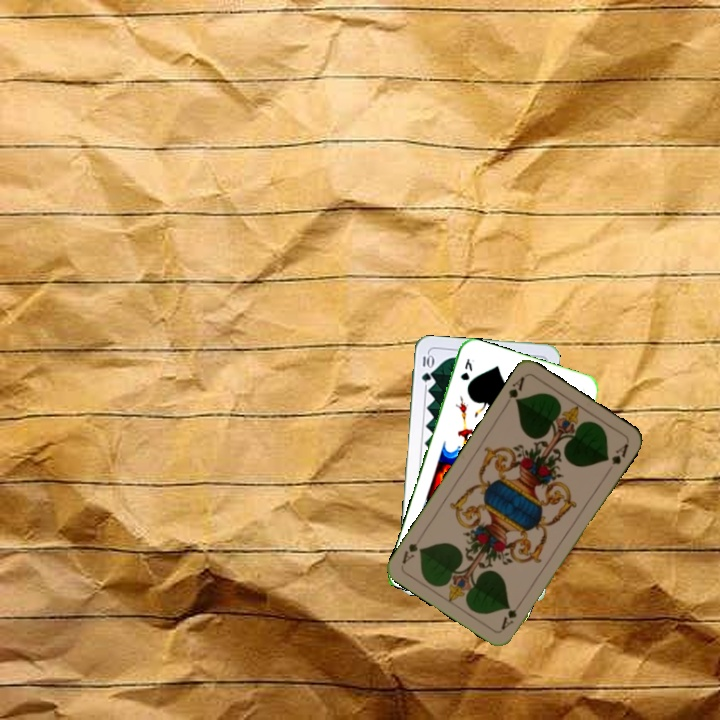G10: (418, 350, 434, 384)
GA: (497, 596, 525, 633), (505, 372, 528, 406)
GK: (456, 355, 475, 383)
